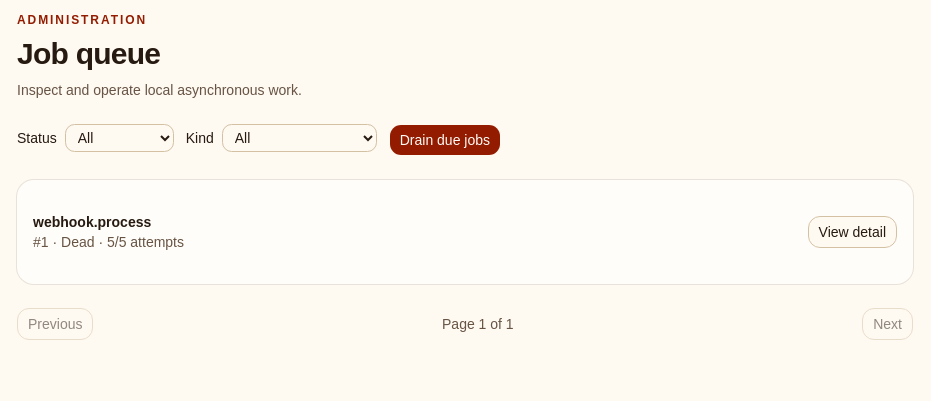
Test: AdminJobsPage › reports drain counts
Click the button "Drain due jobs" at [445, 140], box [389,124,501,156]
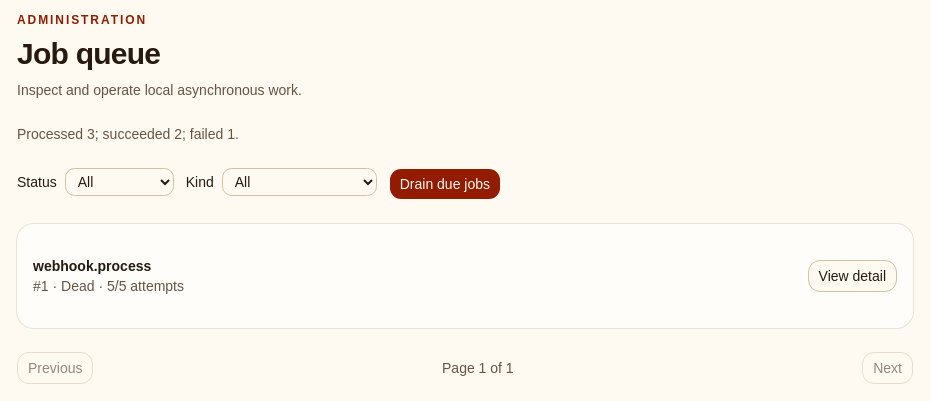
Check: the text "Processed 3; succeeded 2; failed 1." is shown, box [17,126,239,142]
